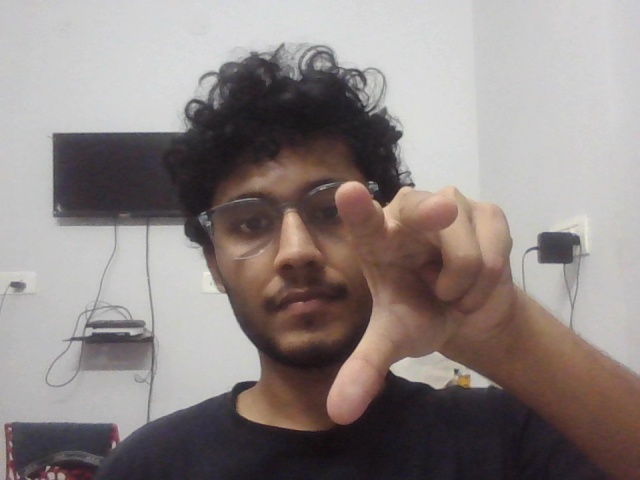No: (298, 164, 546, 439)
